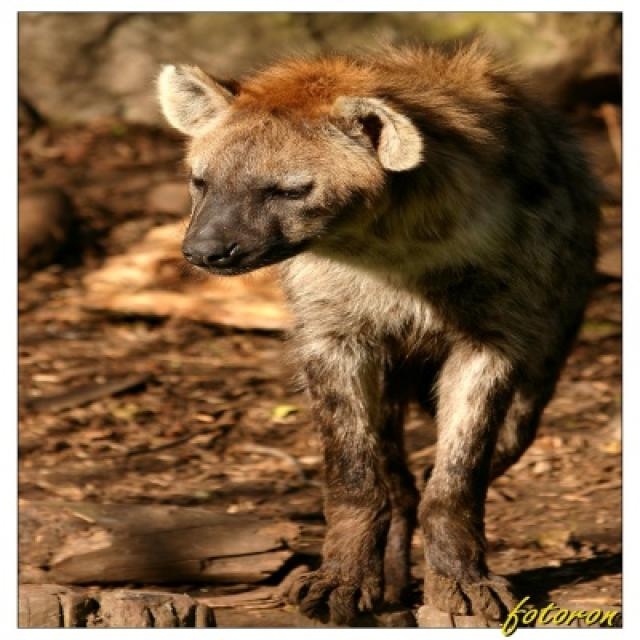hyena: (155, 40, 614, 629)
